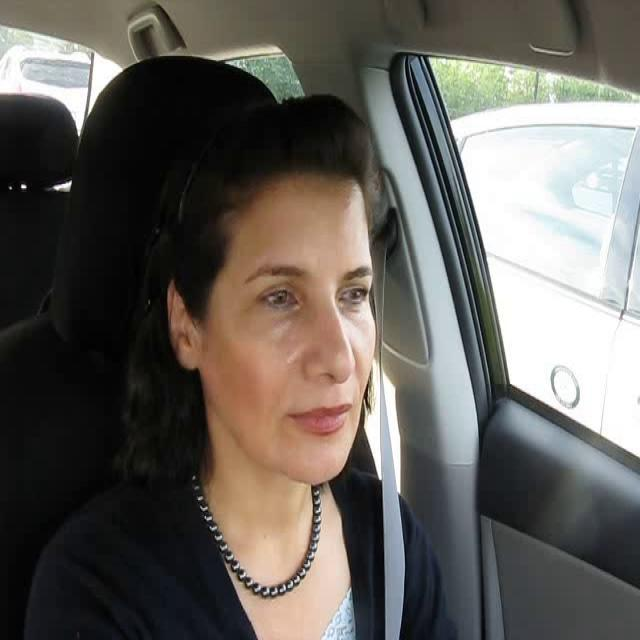close: (284, 398, 353, 438)
